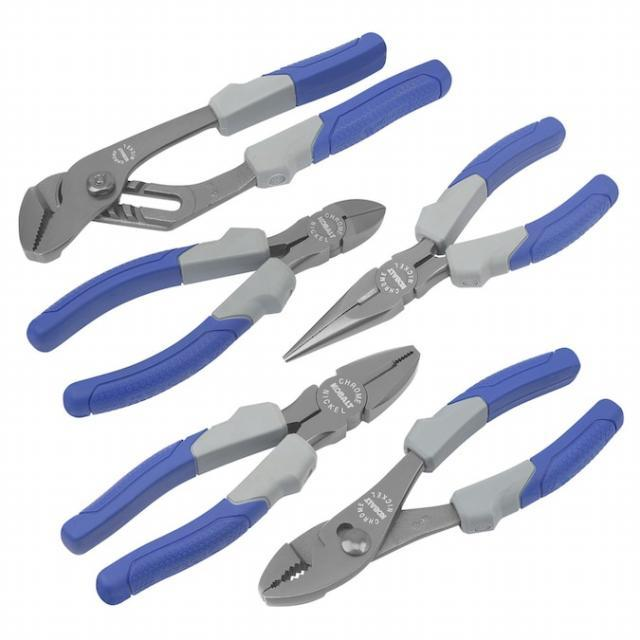pliers: (14, 31, 458, 270), (252, 342, 630, 614), (53, 341, 424, 610), (278, 116, 622, 367), (22, 191, 392, 419)
